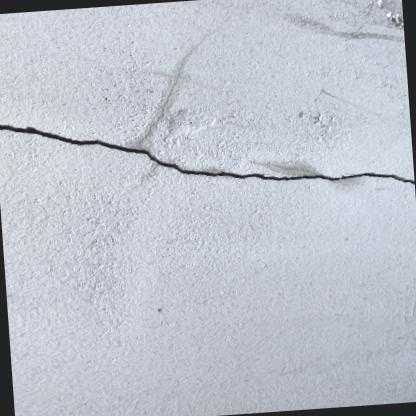crack: (0, 124, 415, 184)
